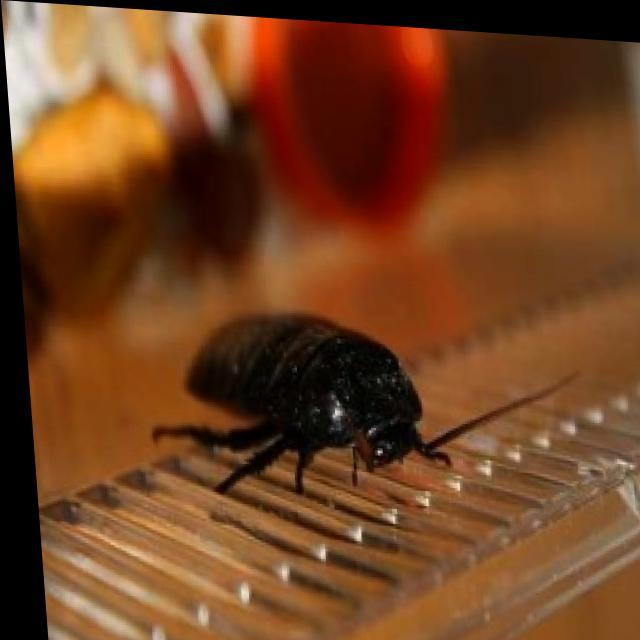cockroach: (175, 288, 434, 512)
